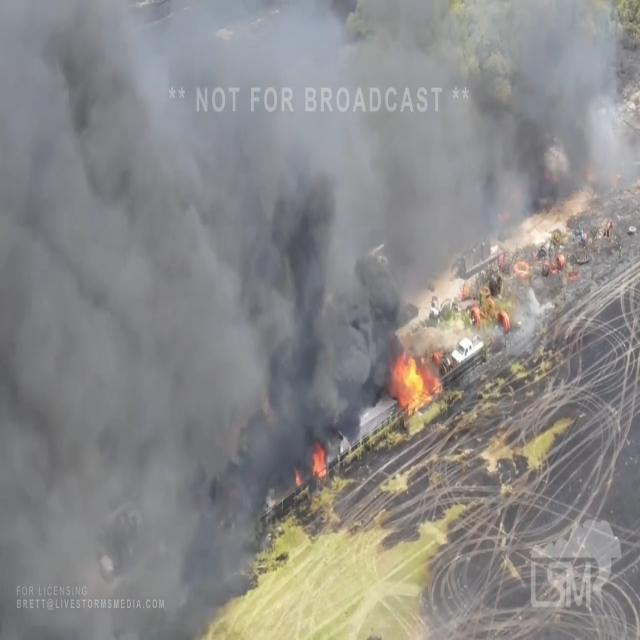Fire: (392, 354, 432, 414)
Smoke: (12, 9, 286, 591)
